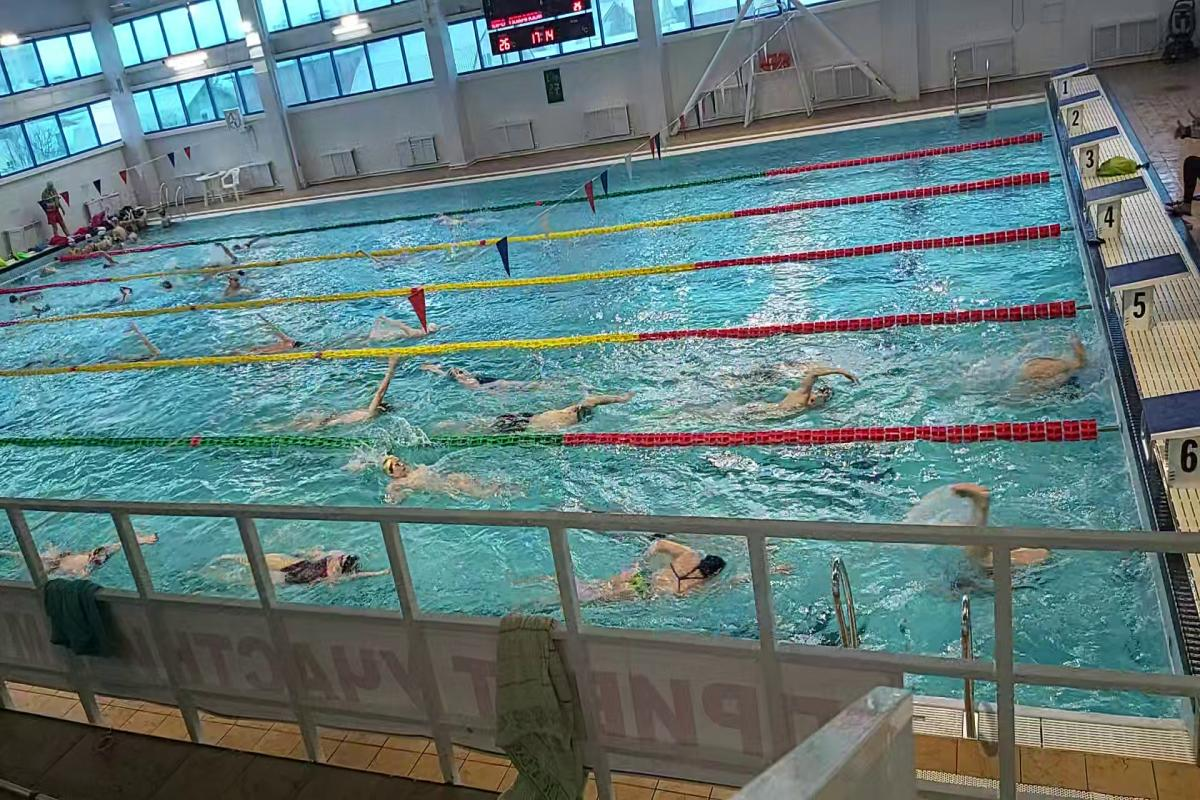swimmer: (928, 476, 1049, 592), (580, 539, 739, 611), (704, 368, 864, 424), (287, 365, 407, 431), (377, 450, 522, 504), (268, 530, 382, 593), (482, 390, 642, 432), (1025, 337, 1100, 421), (418, 351, 556, 390), (240, 313, 317, 367), (50, 524, 114, 577), (222, 275, 257, 298)
